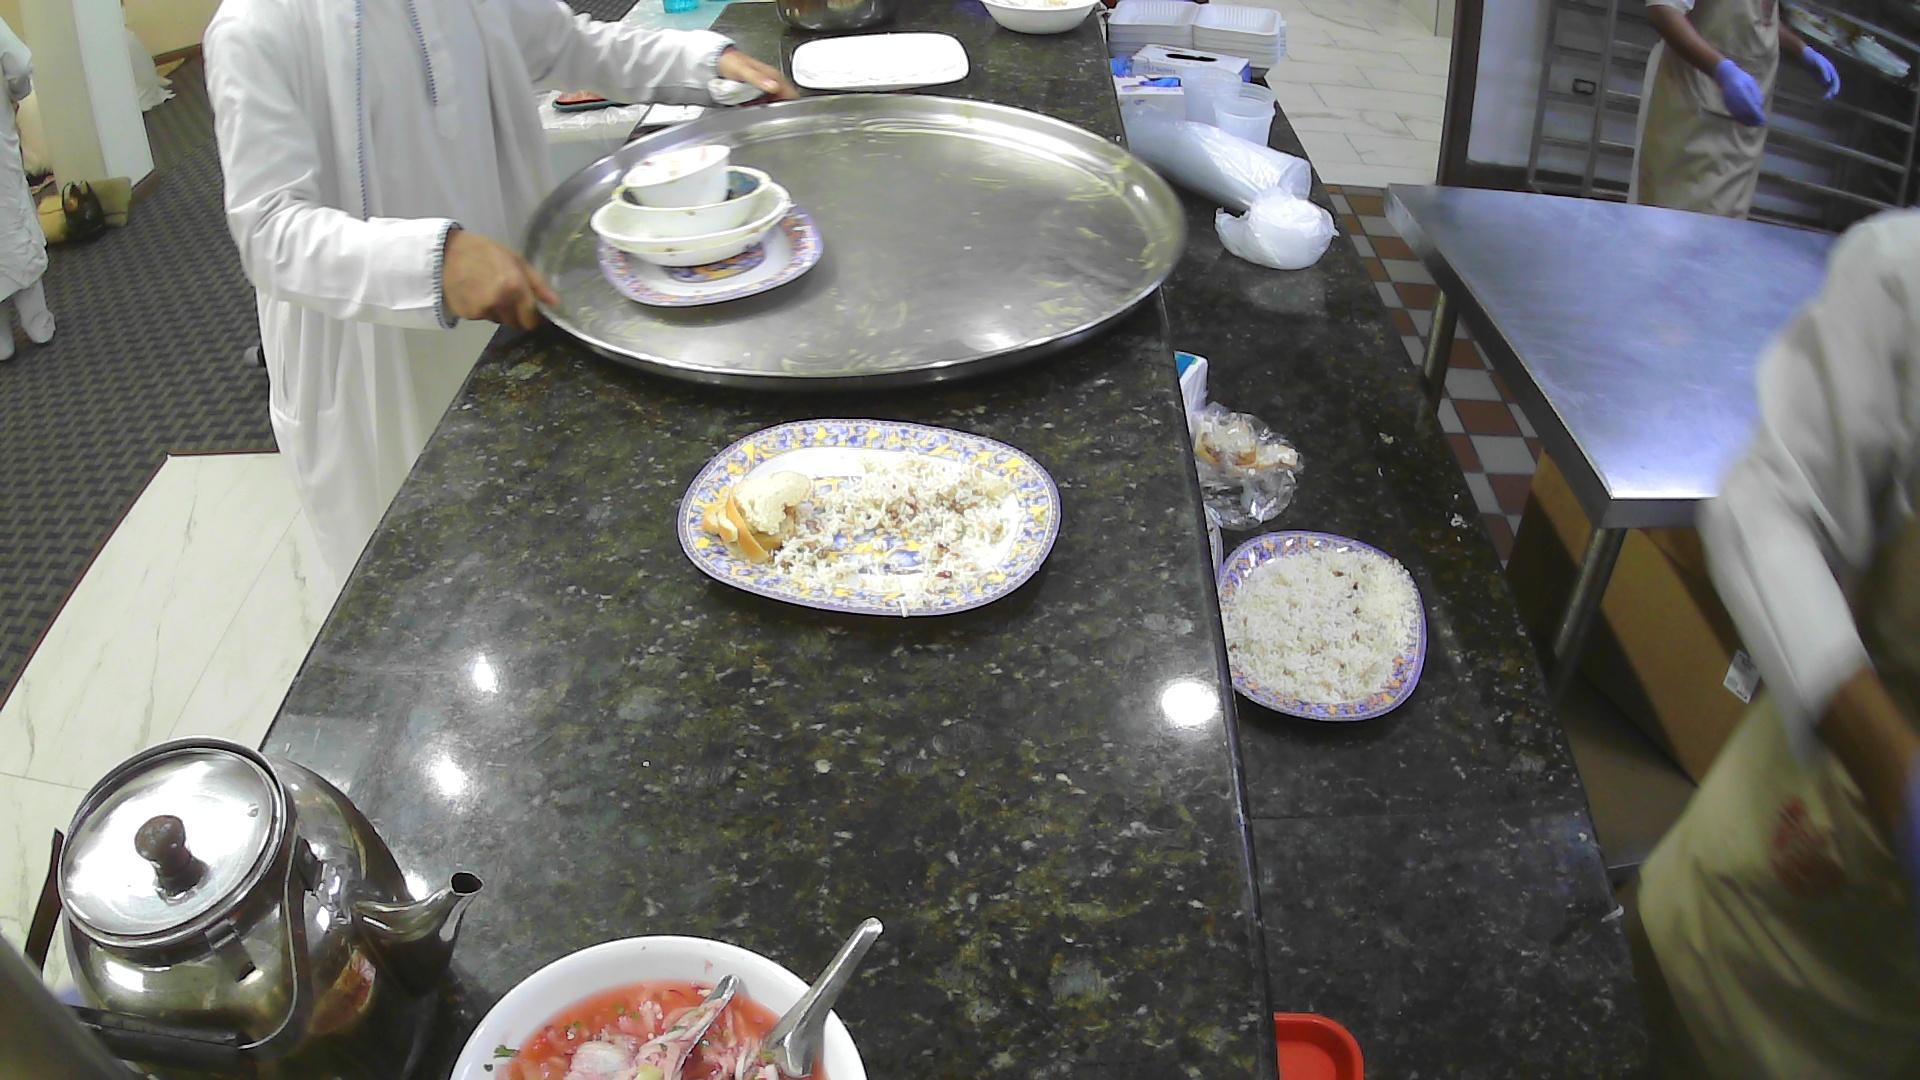thaal: (514, 91, 1189, 397)
